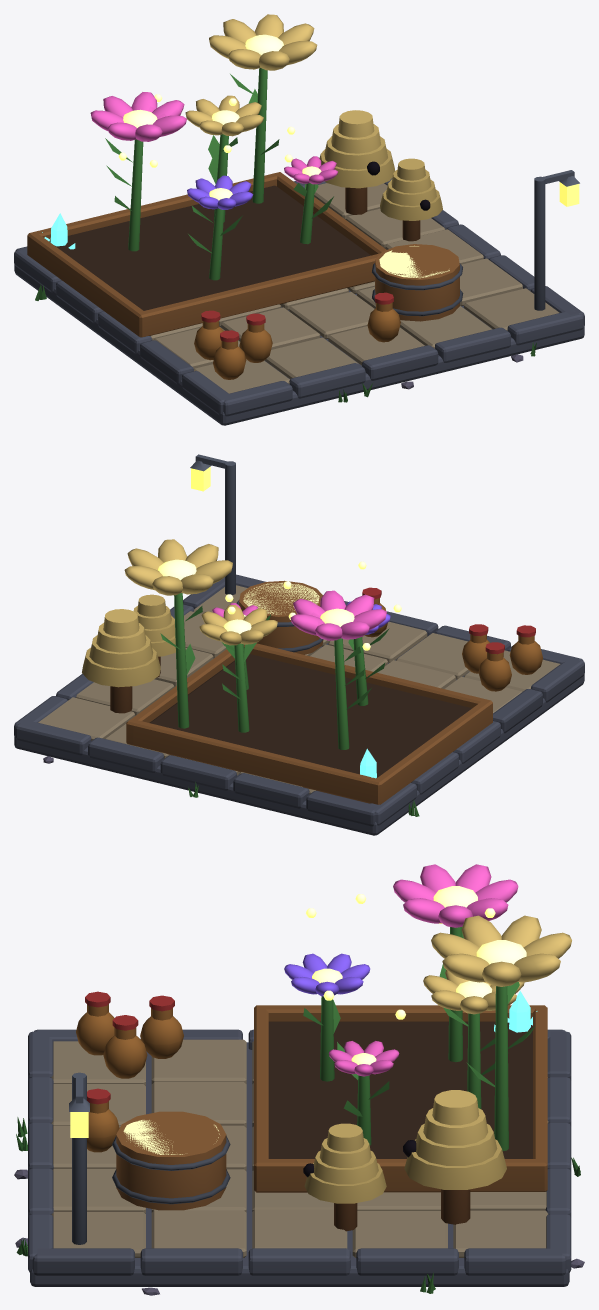
The model's file is nectar_hive.glb.
3 views of the same model, one above another, from view 1: azimuth 30°, elevation 25°; view 2: azimuth 150°, elevation 25°; view 3: azimuth 270°, elevation 25° (orthographic). The views are drawn at different scales.
Parts seen in each view (by area): view 1: t0_stone_warm, t0_stone_dark, t0_earth, t0_wood, t0_straw, t0_moss, t0_mushroom_pink, t0_bronze, t2_straw, t0_glow_gold, t1_iron, t2_moss (+5 smaller); view 2: t0_stone_dark, t0_earth, t0_wood, t0_stone_warm, t0_straw, t0_moss, t2_straw, t0_mushroom_pink, t0_bronze, t0_glow_gold, t1_iron, t2_moss (+3 smaller); view 3: t0_stone_warm, t0_stone_dark, t0_earth, t0_wood, t0_straw, t0_mushroom_pink, t0_bronze, t2_straw, t0_moss, t0_glow_gold, t2_moss, t1_iron (+6 smaller).
Boxes of the visible parts, x1=… form: t0_stone_warm: x1=150, y1=183, x2=559, y2=393; t0_stone_dark: x1=14, y1=178, x2=584, y2=425; t0_earth: x1=49, y1=185, x2=370, y2=310; t0_wood: x1=27, y1=172, x2=459, y2=337; t0_straw: x1=185, y1=95, x2=442, y2=220; t0_moss: x1=35, y1=134, x2=536, y2=402; t0_mushroom_pink: x1=90, y1=92, x2=337, y2=184; t0_bronze: x1=194, y1=302, x2=400, y2=379; t2_straw: x1=209, y1=14, x2=317, y2=70; t0_glow_gold: x1=123, y1=109, x2=449, y2=278; t1_iron: x1=534, y1=170, x2=579, y2=310; t2_moss: x1=230, y1=68, x2=279, y2=203; t0_stone_dark: x1=14, y1=574, x2=584, y2=835; t0_earth: x1=149, y1=654, x2=471, y2=778; t0_wood: x1=126, y1=580, x2=492, y2=804; t0_stone_warm: x1=38, y1=585, x2=560, y2=794; t0_straw: x1=82, y1=594, x2=277, y2=687; t0_moss: x1=188, y1=614, x2=419, y2=816; t2_straw: x1=124, y1=539, x2=232, y2=595; t0_mushroom_pink: x1=212, y1=590, x2=386, y2=640; t0_bronze: x1=364, y1=598, x2=542, y2=691; t0_glow_gold: x1=223, y1=582, x2=354, y2=633; t1_iron: x1=190, y1=454, x2=235, y2=595; t2_moss: x1=160, y1=593, x2=202, y2=728; t0_stone_warm: x1=51, y1=1039, x2=548, y2=1257; t0_stone_dark: x1=28, y1=1029, x2=571, y2=1286; t0_earth: x1=268, y1=1021, x2=532, y2=1158; t0_wood: x1=116, y1=1005, x2=547, y2=1210; t0_straw: x1=304, y1=970, x2=524, y2=1203; t0_mushroom_pink: x1=328, y1=864, x2=518, y2=1076; t0_bronze: x1=76, y1=1004, x2=183, y2=1152; t2_straw: x1=431, y1=915, x2=571, y2=986; t0_moss: x1=16, y1=926, x2=580, y2=1293; t0_glow_gold: x1=123, y1=886, x2=492, y2=1154; t2_moss: x1=466, y1=982, x2=535, y2=1150; t1_iron: x1=69, y1=1072, x2=89, y2=1244.
Bounding box in the file's own units: 3.11 × 1.59 × 3.11.
